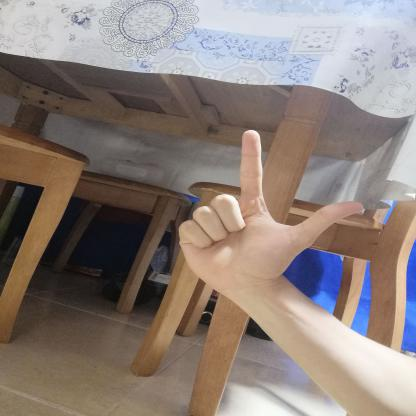LAAM: (156, 119, 377, 305)
